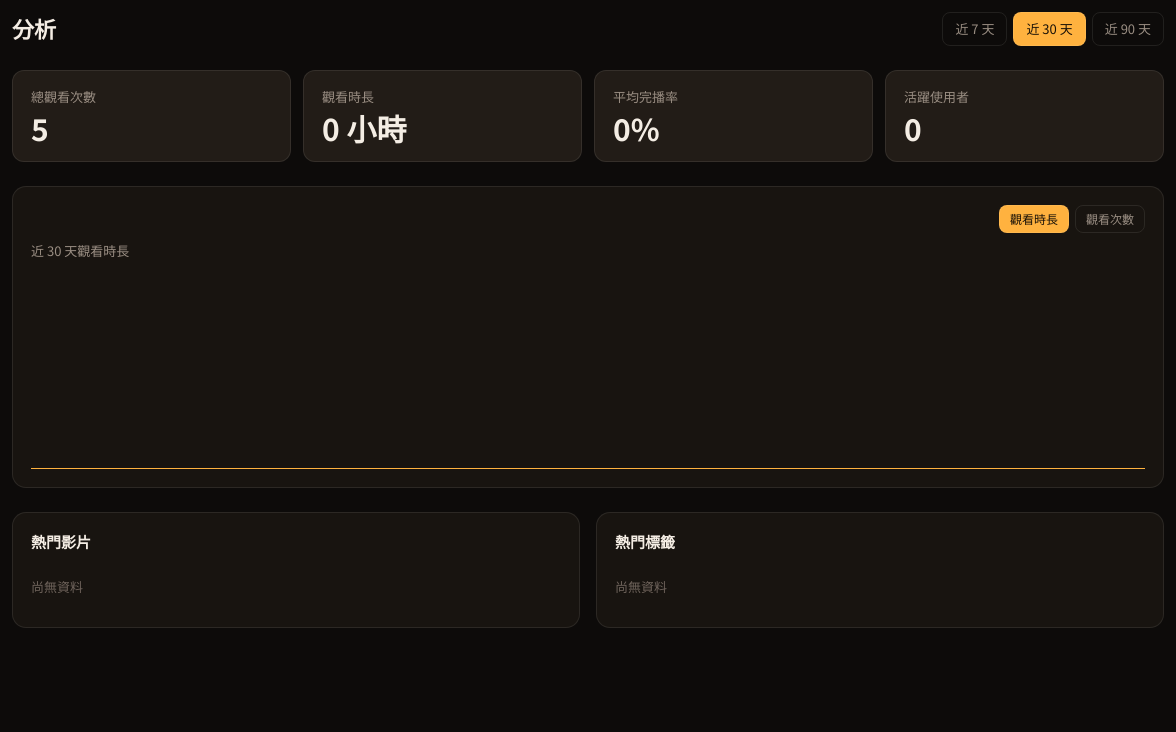
Scenario: AnalyticsPage › renders the trend when only views exist (hours round to 0) and toggles the metric
Expected: the text "近 30 天觀看時長" is shown, x1=31 y1=241 x2=129 y2=260
Note: Toggling to 觀看次數 relabels the trend.
Click the button "觀看次數": x=1110, y=219 x1=1075 y1=205 x2=1145 y2=233
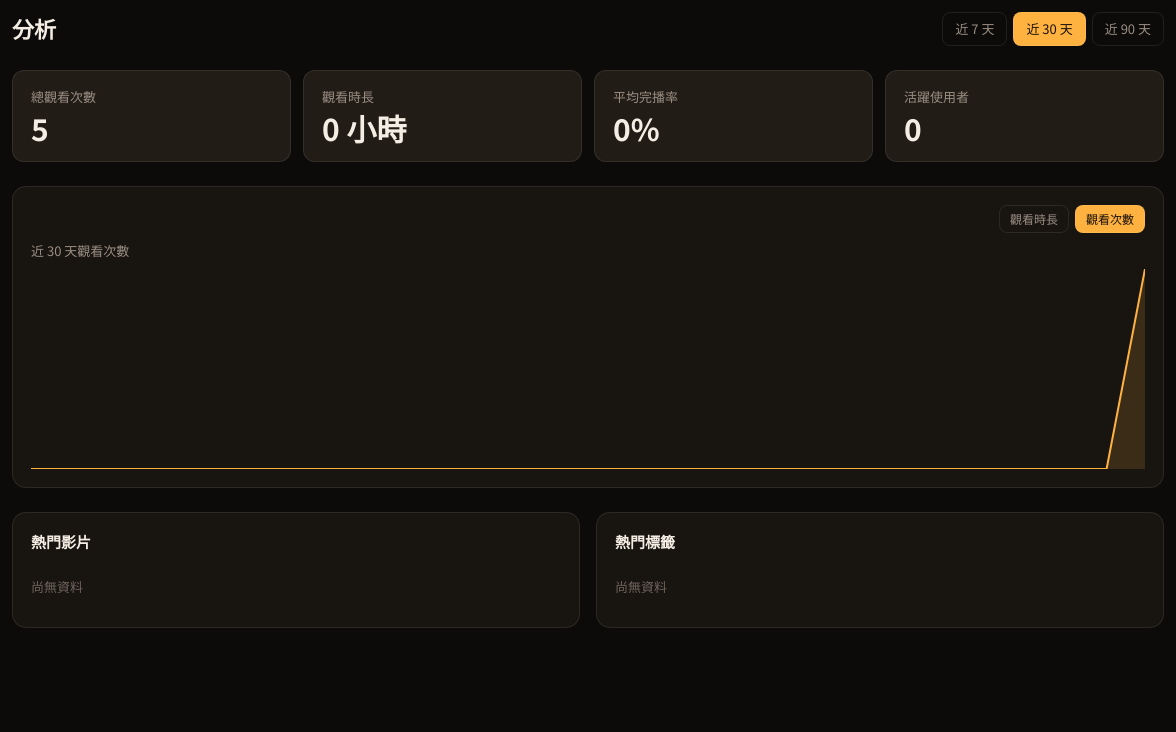
Expected: the text "近 30 天觀看次數" is shown, x1=31 y1=241 x2=129 y2=260
